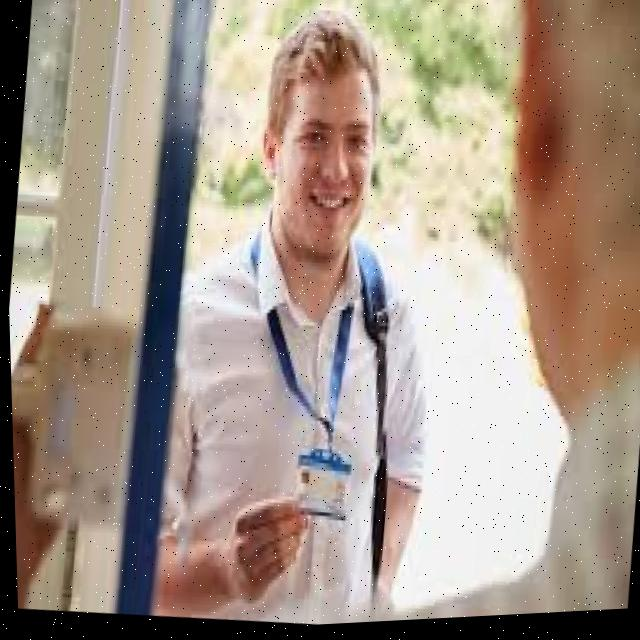id_card: (222, 230, 384, 538)
